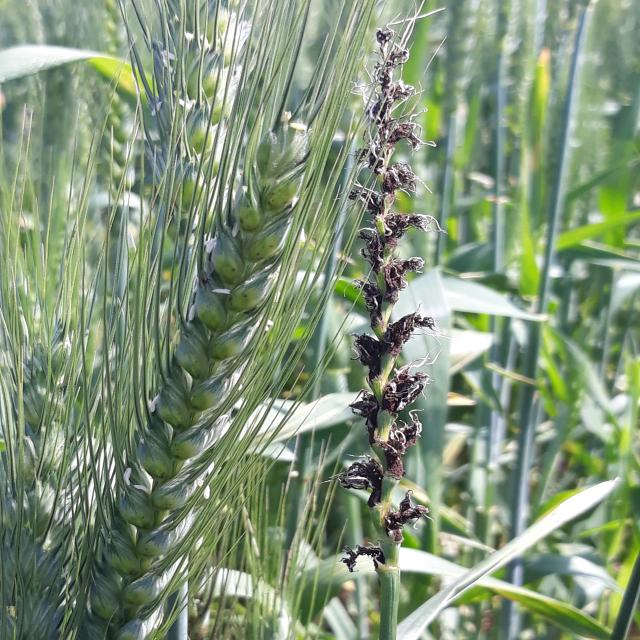loose_charred: (72, 84, 335, 640), (304, 20, 484, 634)
